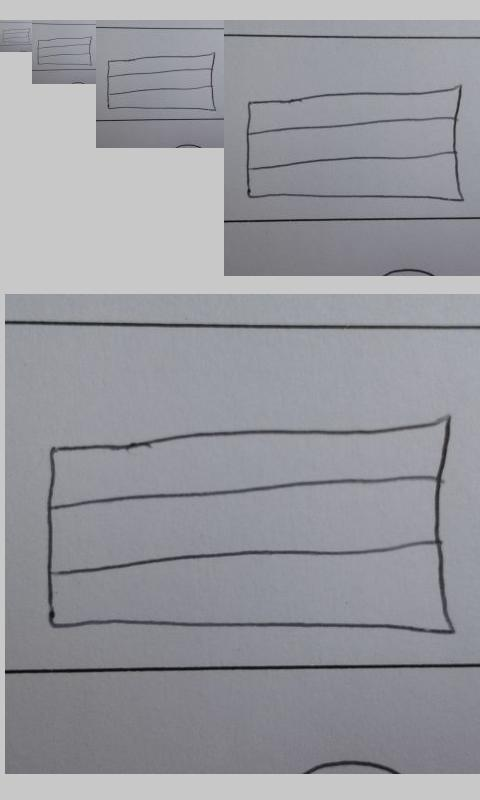list_view: (42, 418, 462, 637), (243, 84, 466, 205), (105, 52, 218, 113), (36, 36, 93, 66), (2, 28, 31, 44)
